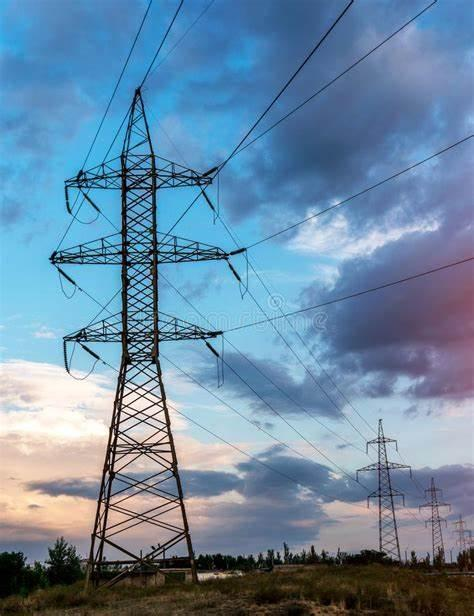power_tower: (50, 81, 234, 597), (353, 413, 414, 571)
